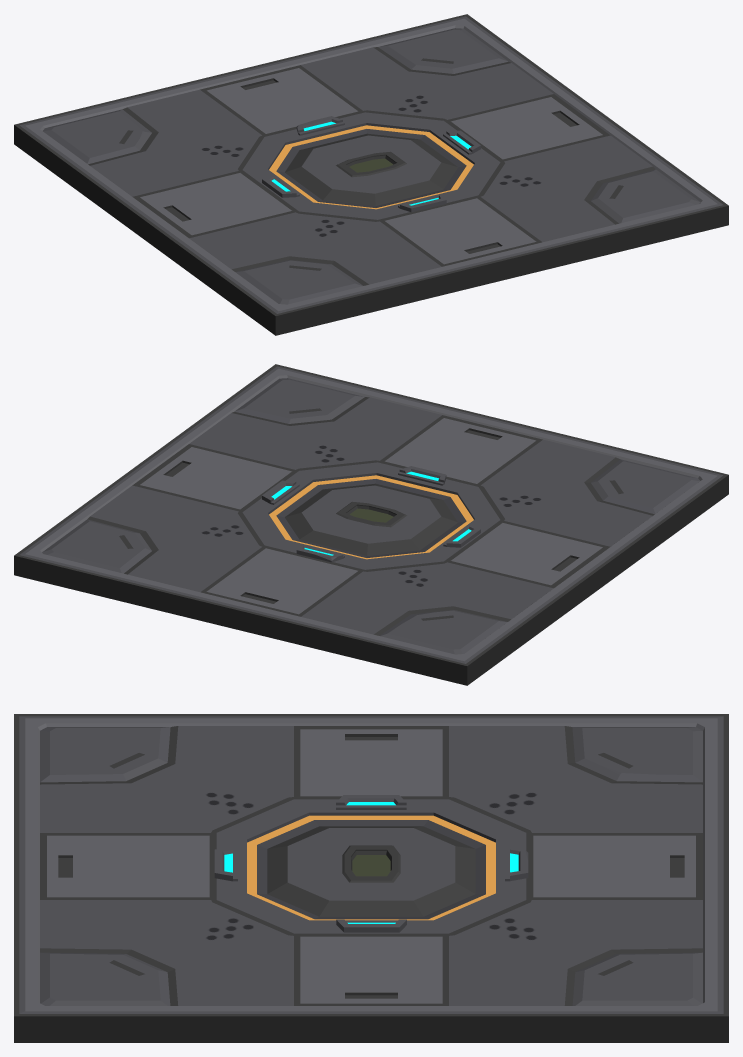
Rendered from SM_Bld_Floor_07.fbx.
3 views of the same model, one above another, from view 1: azimuth 30°, elevation 25°; view 2: azimuth 150°, elevation 25°; view 3: azimuth 270°, elevation 25° (orthographic). The views are drawn at different scales.
Parts seen in each view (by area): view 1: SM_Bld_Floor_07_LOD0; view 2: SM_Bld_Floor_07_LOD0; view 3: SM_Bld_Floor_07_LOD0.
Boxes of the visible parts, bbox=[...] form: SM_Bld_Floor_07_LOD0: bbox=[14, 14, 728, 335]; SM_Bld_Floor_07_LOD0: bbox=[14, 364, 728, 685]; SM_Bld_Floor_07_LOD0: bbox=[14, 714, 728, 1042].
Bounding box in the file's own units: 500 × 500 × 23.72.
Materials: 1 (1 with a texture image).
